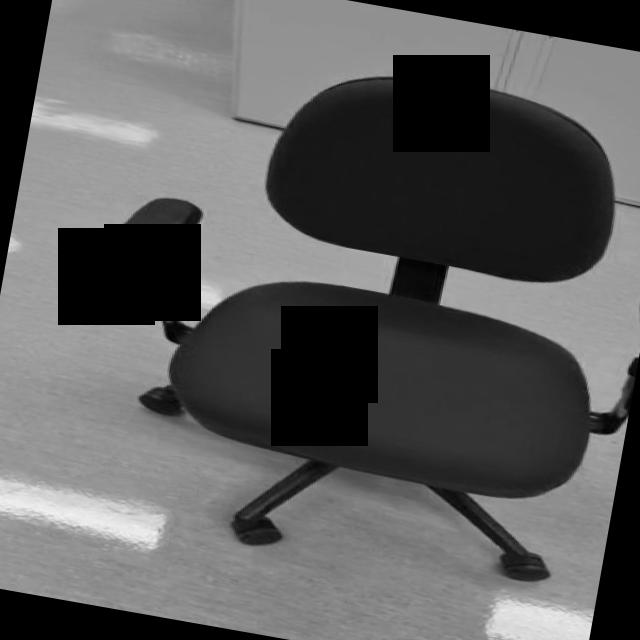cadeira-azul: (63, 25, 640, 603)
